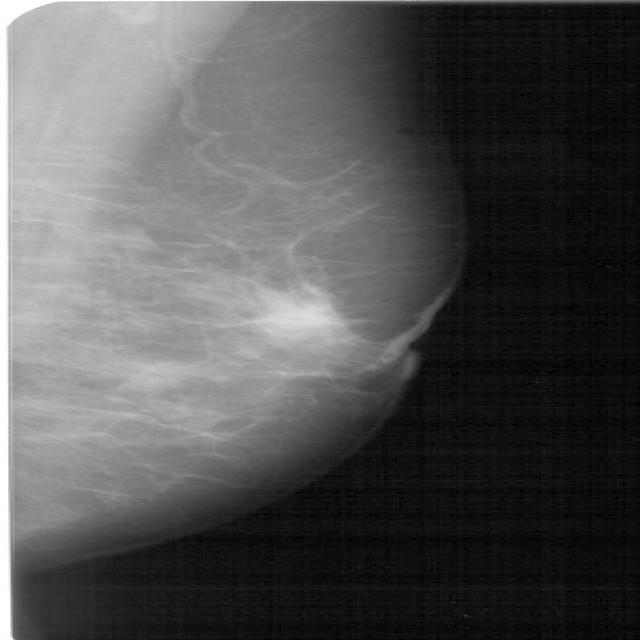tumour: (247, 286, 347, 342)
